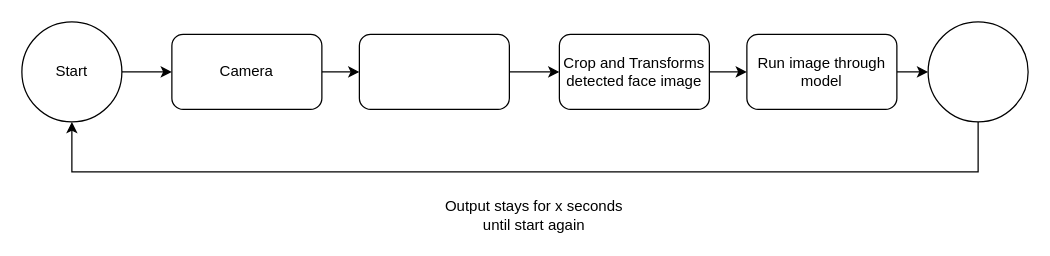
The diagram is 1050 pixels wide and 256 high, and some of its shapes have lost their labels. Each missing label, with the centre of its shape:
"Detect Face" goes at pixel 433 71.
"Get Output" goes at pixel 977 71.
